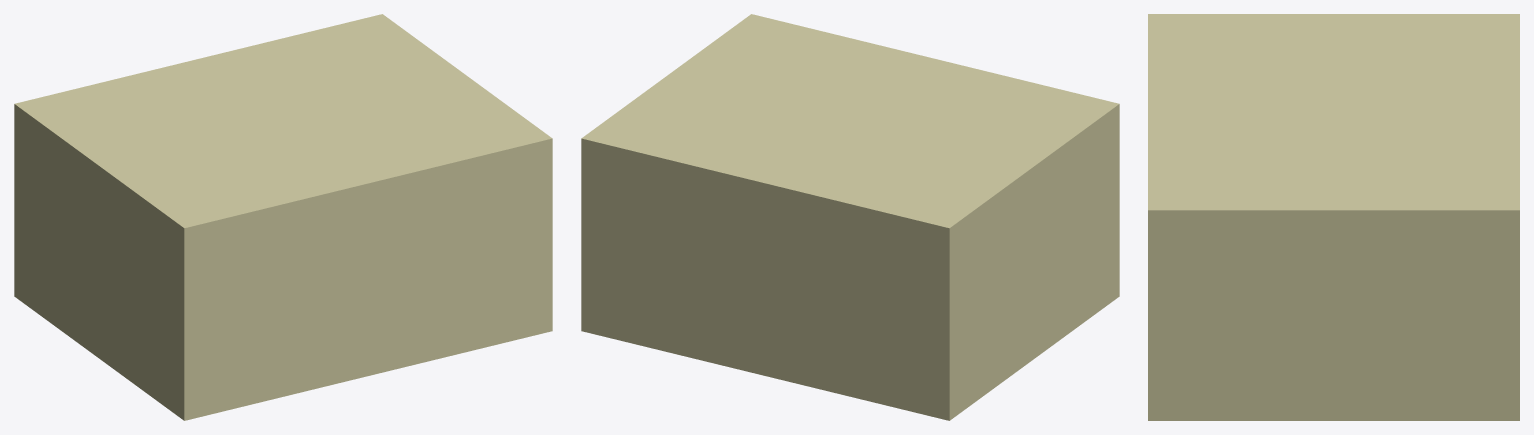
The model's file is cuboid.glb.
3 views of the same model, side by side, from view 1: azimuth 30°, elevation 25°; view 2: azimuth 150°, elevation 25°; view 3: azimuth 270°, elevation 25° (orthographic). The views are drawn at different scales.
Visible parts, largest first — view 1: geometry_0; view 2: geometry_0; view 3: geometry_0.
Part boxes in pixels (<box>): geometry_0: <box>14,14,552,420</box>; geometry_0: <box>581,14,1119,420</box>; geometry_0: <box>1148,14,1519,420</box>.
Size of the model in its own units: 10 by 5 by 8.
